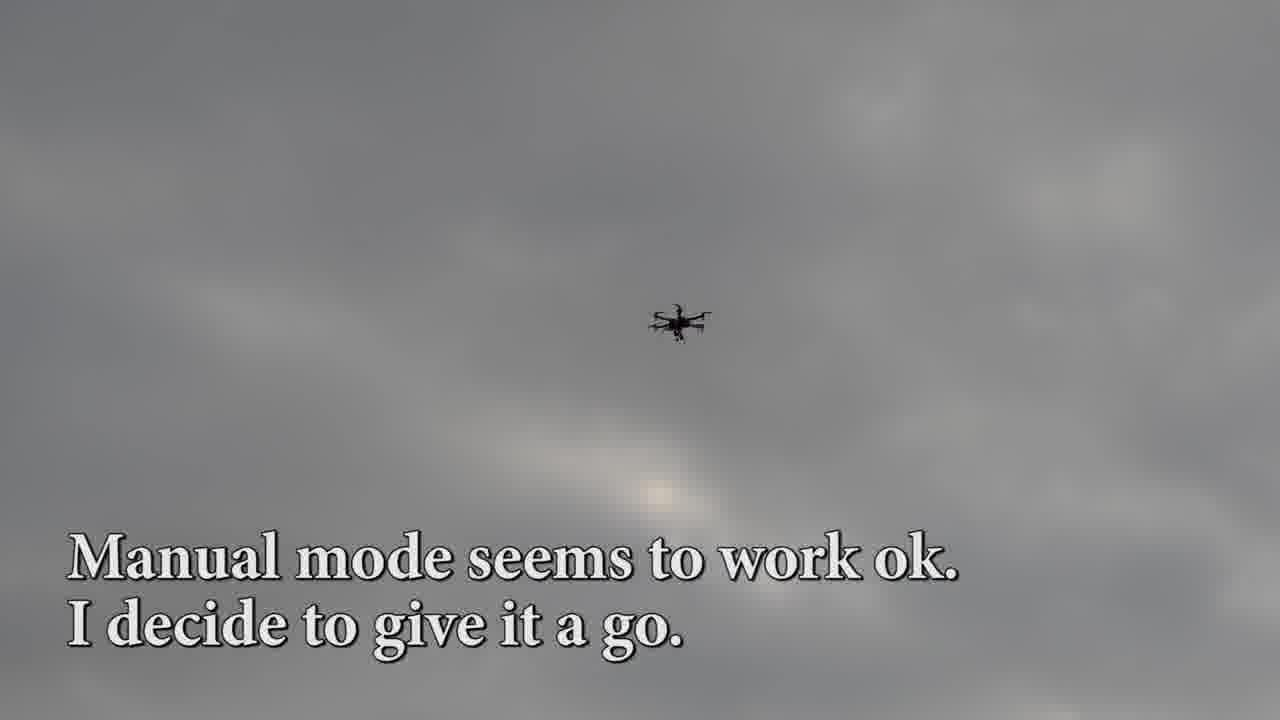drone: (648, 297, 713, 350)
